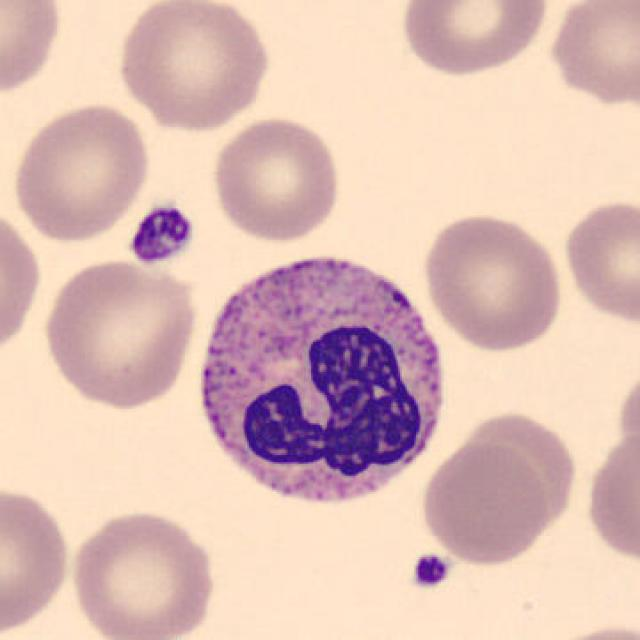Neutrophil: (187, 238, 457, 527)
Platelets: (125, 201, 199, 266), (407, 550, 452, 592)
RBC: (37, 254, 201, 412), (112, 0, 276, 134), (9, 99, 155, 245), (418, 208, 565, 353), (66, 504, 220, 640), (208, 113, 345, 243), (454, 410, 578, 549), (418, 439, 551, 568), (396, 0, 554, 79), (0, 482, 75, 638), (542, 0, 638, 109), (560, 194, 638, 328), (581, 425, 640, 568), (0, 201, 44, 365), (0, 0, 66, 102), (536, 620, 638, 640)
